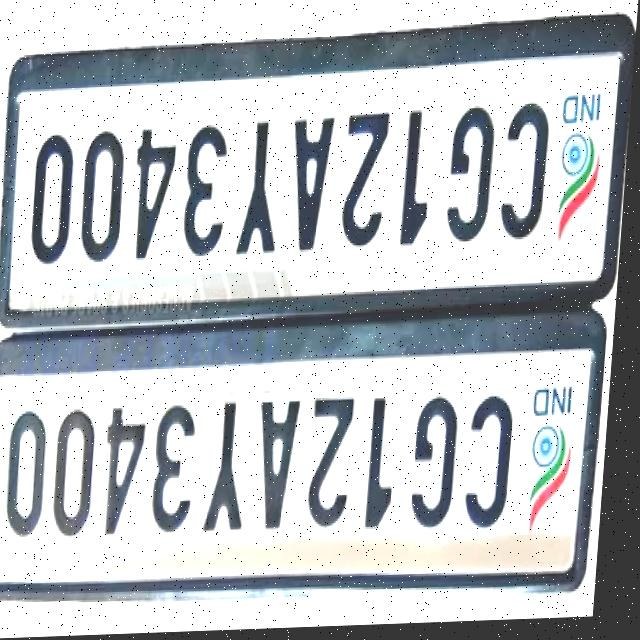plate: (0, 9, 638, 336), (0, 314, 619, 629)
